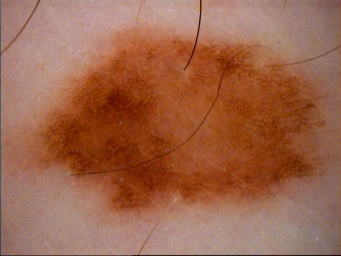nevus: (42, 36, 318, 211)
